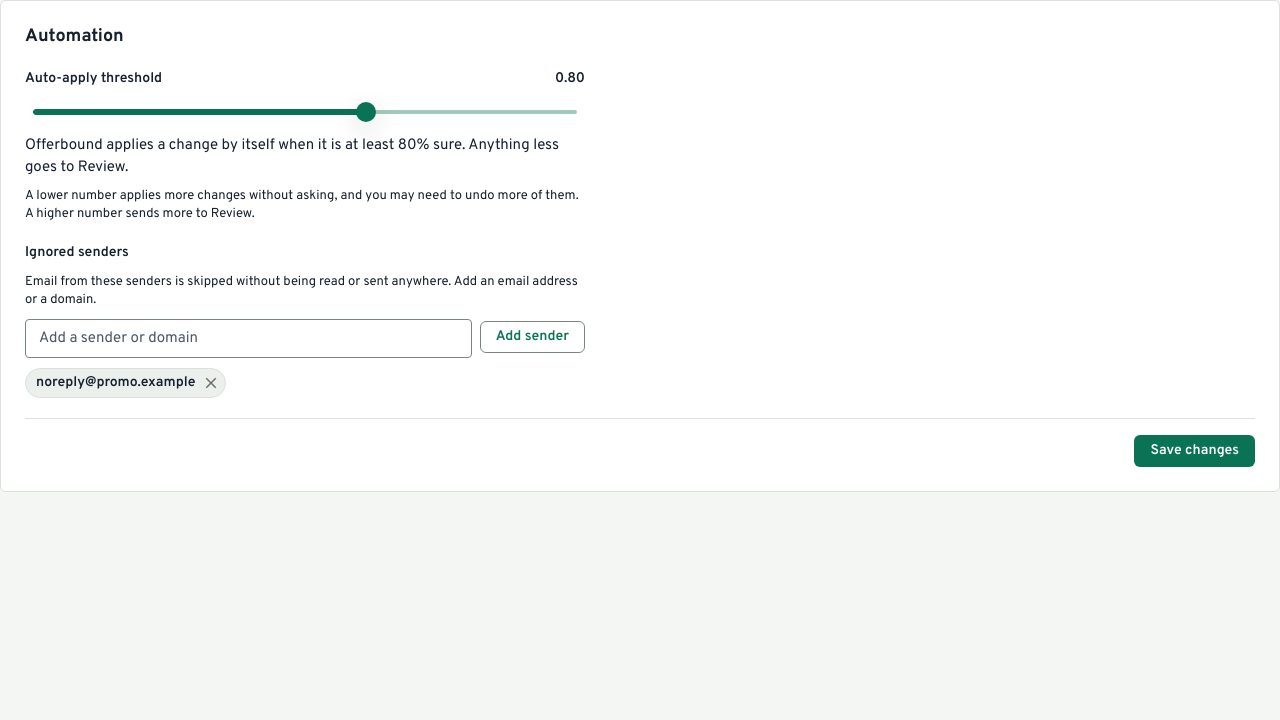
it: Settings, Automation › shows a field message from the server
Step 1. Click the button "Save changes" → (1195, 451), box [1134, 435, 1255, 467]
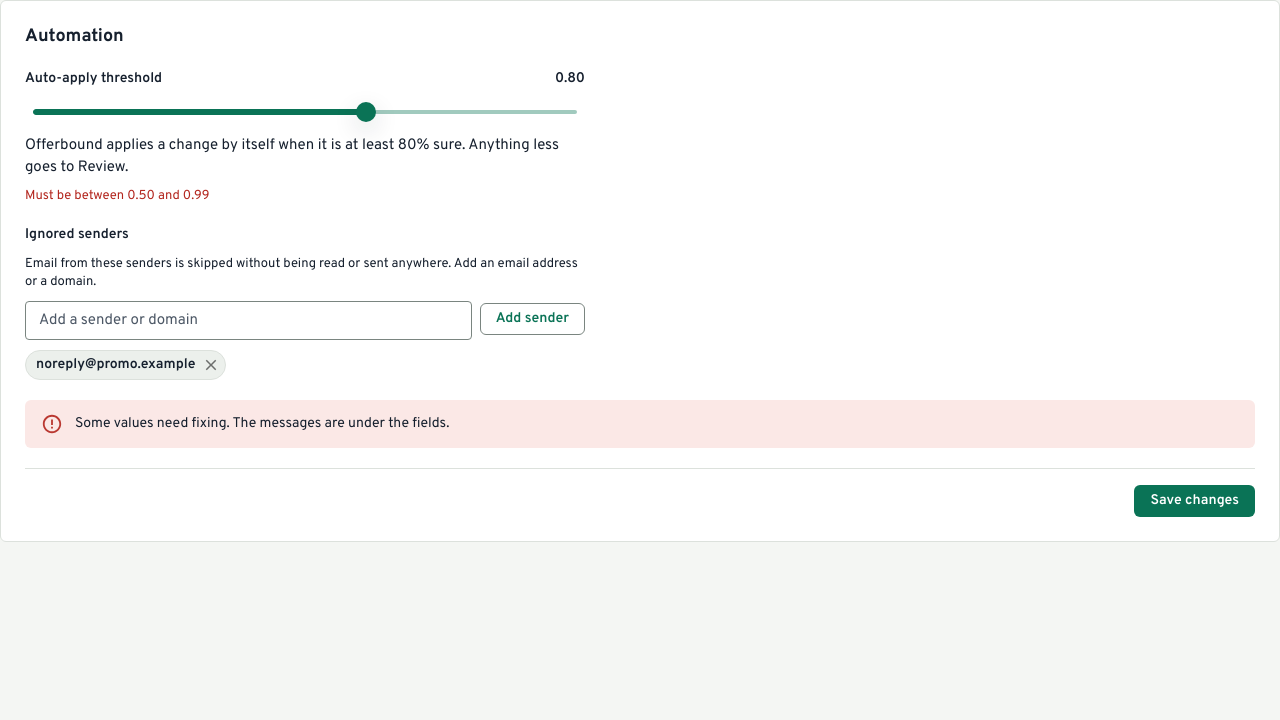
Now the text "Must be between 0.50 and 0.99" is shown, box [25, 188, 210, 204]
